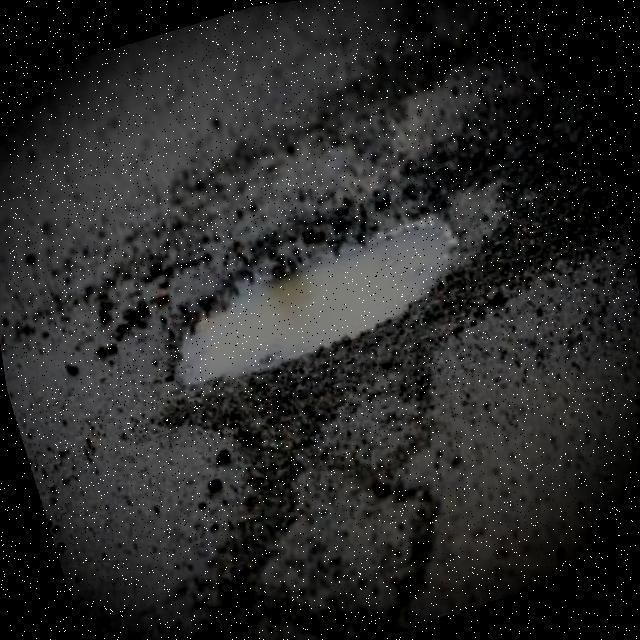Pothole: (177, 225, 453, 387)
